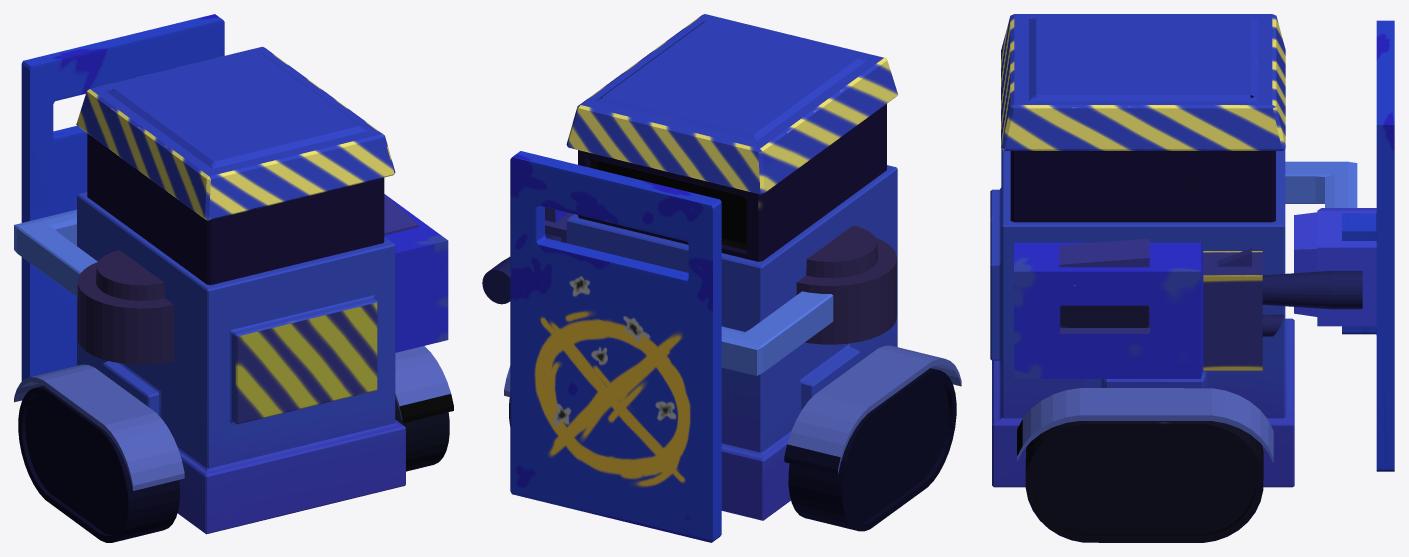
File: 4dTankEr.fbx
The picture shows the model from 3 angles, left to right: view 1: azimuth 30°, elevation 25°; view 2: azimuth 150°, elevation 25°; view 3: azimuth 270°, elevation 25°; orthographic projection. The views are drawn at different scales.
Visible parts, largest first — view 1: Cistern, Cube.001, Cylinder.004, Cube.004, Cylinder.002, Cube.002, Cylinder.003, Cube; view 2: Cube.004, Cube.001, Cistern, Cylinder.004, Cylinder.002, Cube, Cylinder.001, Cube.002; view 3: Cube.001, Cylinder.003, Cube.002, Cistern, Cube.004, Cube.003, Cylinder.001, Cube.
Boxes of the visible parts, box(x1,y1,x2,y2) form: Cistern: box(77, 192, 405, 534); Cube.001: box(76, 46, 395, 284); Cylinder.004: box(14, 364, 184, 542); Cube.004: box(21, 14, 224, 381); Cylinder.002: box(77, 250, 173, 364); Cube.002: box(384, 194, 448, 352); Cylinder.003: box(395, 346, 453, 471); Cube: box(14, 209, 97, 297); Cube.004: box(510, 151, 721, 542); Cube.001: box(566, 14, 897, 261); Cistern: box(566, 165, 897, 520); Cylinder.004: box(784, 345, 961, 531); Cylinder.002: box(796, 225, 896, 344); Cube: box(721, 291, 833, 375); Cylinder.001: box(482, 234, 561, 304); Cube.002: box(545, 207, 573, 242); Cube.001: box(1001, 14, 1285, 222); Cylinder.003: box(1017, 388, 1273, 542); Cube.002: box(1014, 238, 1262, 378); Cistern: box(990, 148, 1294, 487); Cube.004: box(1342, 20, 1394, 471); Cube.003: box(1294, 208, 1376, 326); Cylinder.001: box(1262, 271, 1362, 309); Cube: box(1285, 161, 1357, 207).
Bounding box in the file's own units: 282 × 314 × 285.
Materials: 11 (11 with a texture image).
